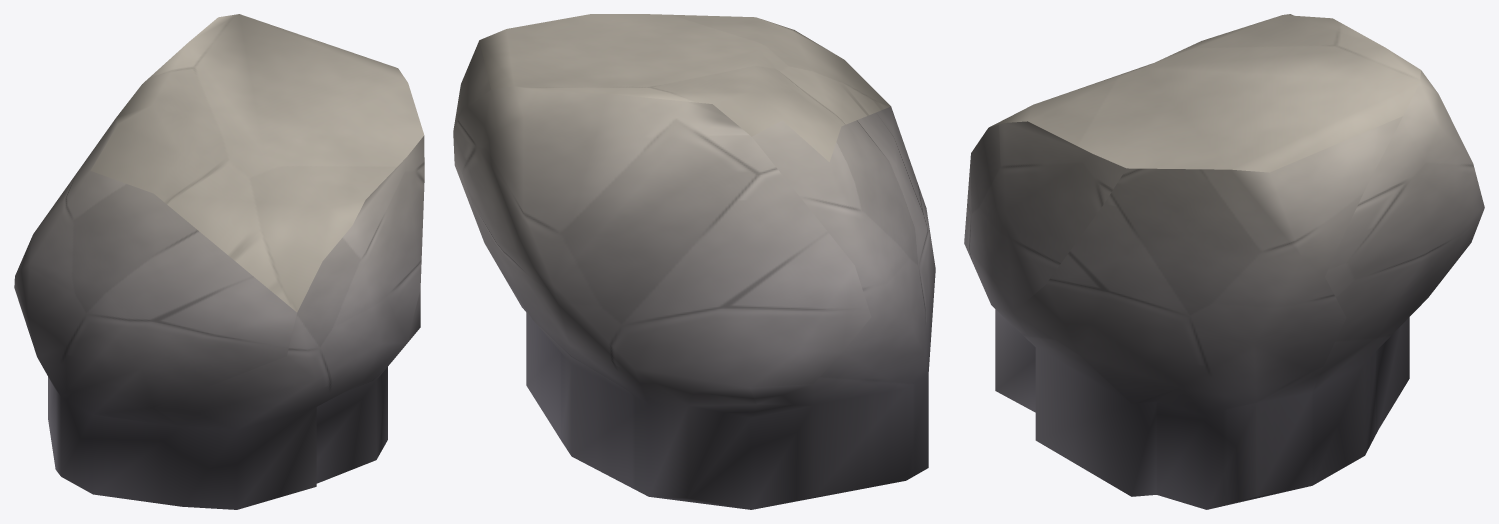
The model's file is Rock_Small_Round_01.fbx.
3 renders of one model, left to right at view 1: azimuth 30°, elevation 25°; view 2: azimuth 150°, elevation 25°; view 3: azimuth 270°, elevation 25°, orthographic. The views are drawn at different scales.
Visible parts, largest first — view 1: Rock_Small_Round_01; view 2: Rock_Small_Round_01; view 3: Rock_Small_Round_01.
Boxes of the visible parts, <box> form: Rock_Small_Round_01: <box>14,14,424,509</box>; Rock_Small_Round_01: <box>453,14,935,509</box>; Rock_Small_Round_01: <box>964,14,1484,509</box>.
Bounding box in the file's own units: 0.4608 × 0.4008 × 0.4683.
1 material, 1 textured.
